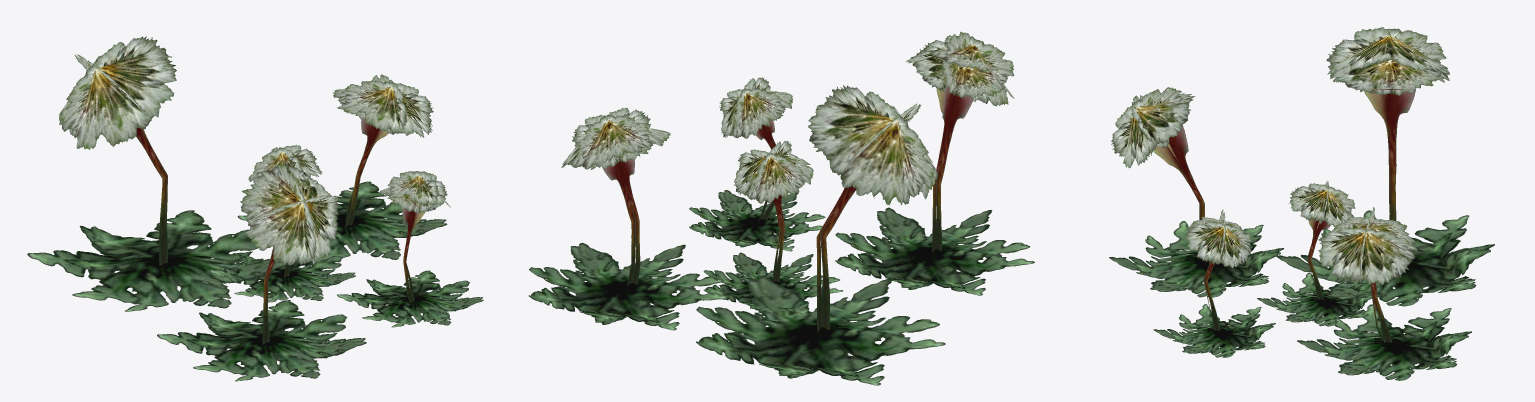
Rendered from flw_g01_wha.glb.
3 renders of one model, left to right at view 1: azimuth 30°, elevation 25°; view 2: azimuth 150°, elevation 25°; view 3: azimuth 270°, elevation 25°, orthographic. The views are drawn at different scales.
Visible parts, largest first — view 1: flw_G01_wha; view 2: flw_G01_wha; view 3: flw_G01_wha.
Boxes of the visible parts, x1,y1,x2,y2 form: flw_G01_wha: [27, 36, 483, 381]; flw_G01_wha: [528, 31, 1034, 385]; flw_G01_wha: [1109, 27, 1494, 380].
Bounding box in the file's own units: 1.06 × 0.6572 × 1.05.
Materials: 1 (1 with a texture image).
